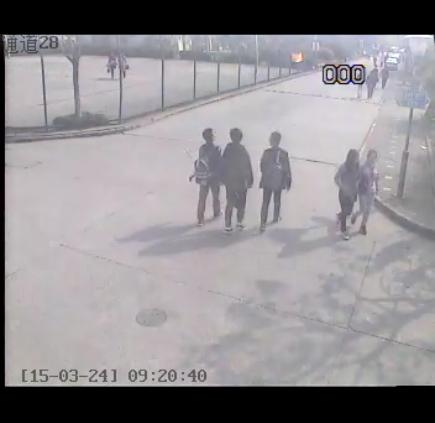person: (218, 125, 256, 234), (256, 131, 295, 235), (190, 126, 223, 227), (333, 148, 366, 242), (357, 149, 382, 239)
